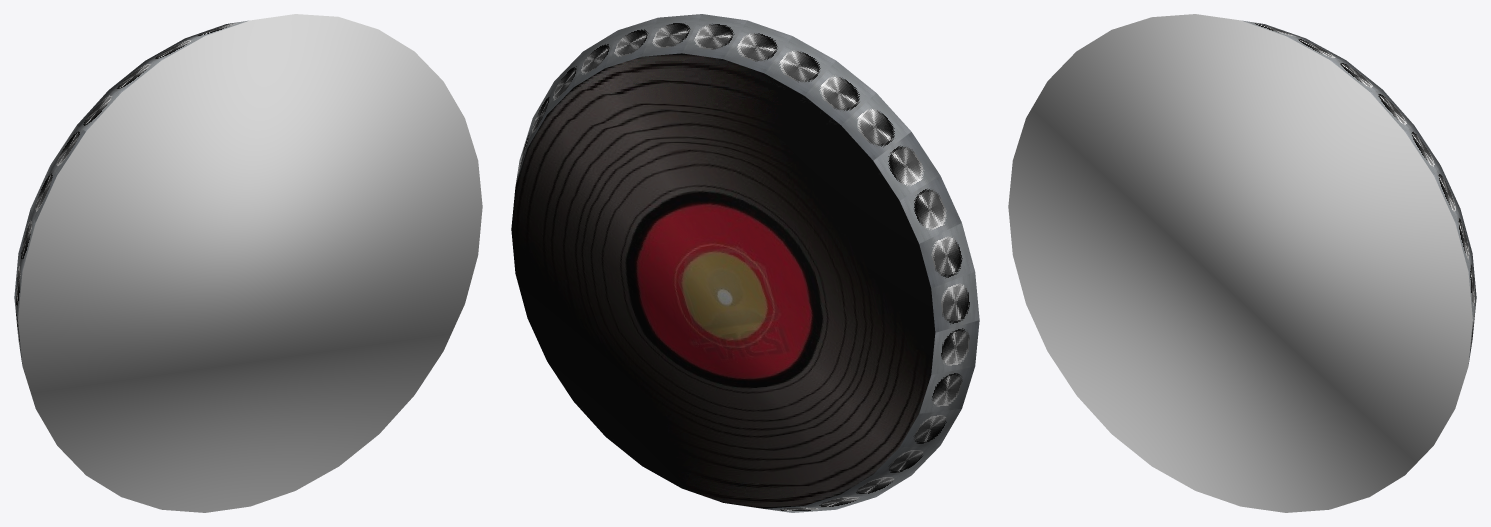
The model's file is longpaly.fbx.
3 views of the same model, side by side, from view 1: azimuth 30°, elevation 25°; view 2: azimuth 150°, elevation 25°; view 3: azimuth 330°, elevation 25° (orthographic).
Visible parts, largest first — view 1: Cylinder; view 2: Cylinder; view 3: Cylinder.
Boxes of the visible parts, x1,y1,x2,y2 form: Cylinder: [14, 14, 482, 512]; Cylinder: [511, 14, 979, 512]; Cylinder: [1008, 14, 1476, 512].
Bounding box in the file's own units: 5.59 × 5.59 × 0.5129.
